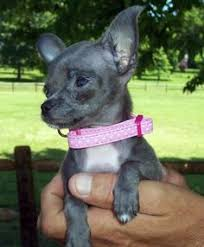chihuahua: (17, 3, 169, 247)
